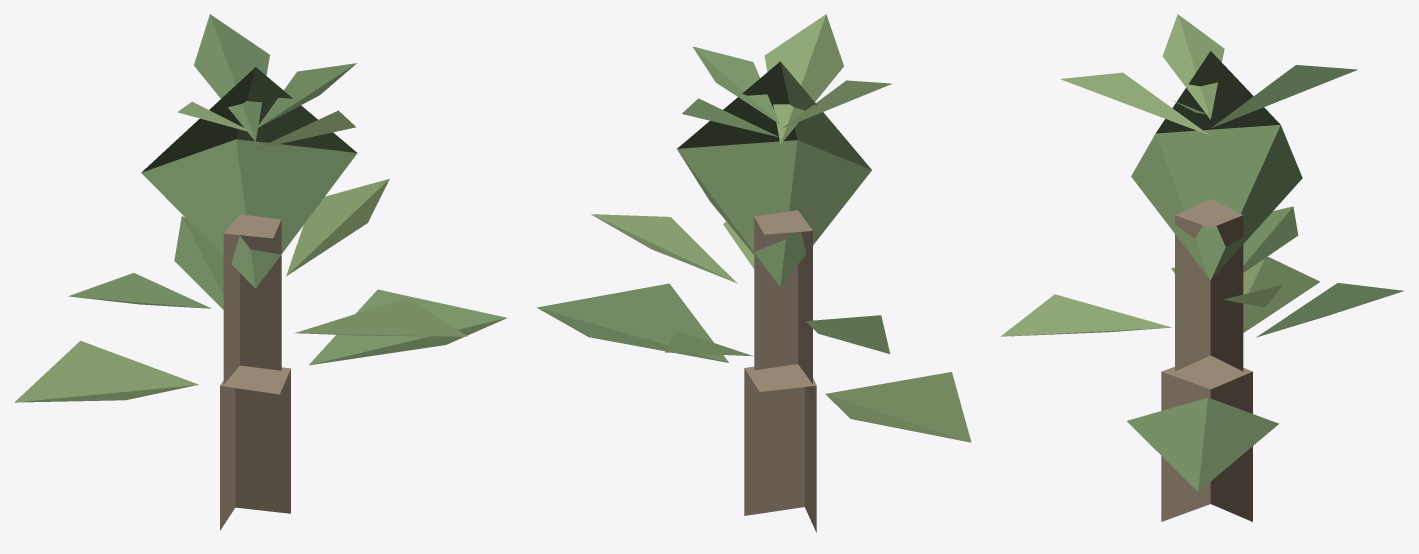
File: hua.zhu@seedling__summer.glb
3 views of the same model, side by side, from view 1: azimuth 30°, elevation 25°; view 2: azimuth 150°, elevation 25°; view 3: azimuth 270°, elevation 25° (orthographic). The views are drawn at different scales.
Parts seen in each view (by area): view 1: hua.zhu@seedling__summer; view 2: hua.zhu@seedling__summer; view 3: hua.zhu@seedling__summer.
Part boxes in pixels (x1,y1,x2,y2): hua.zhu@seedling__summer: (14,14,507,530); hua.zhu@seedling__summer: (537,14,971,532); hua.zhu@seedling__summer: (1001,14,1403,521).
Size of the model in its own units: 0.4308 by 0.4072 by 0.3168.
